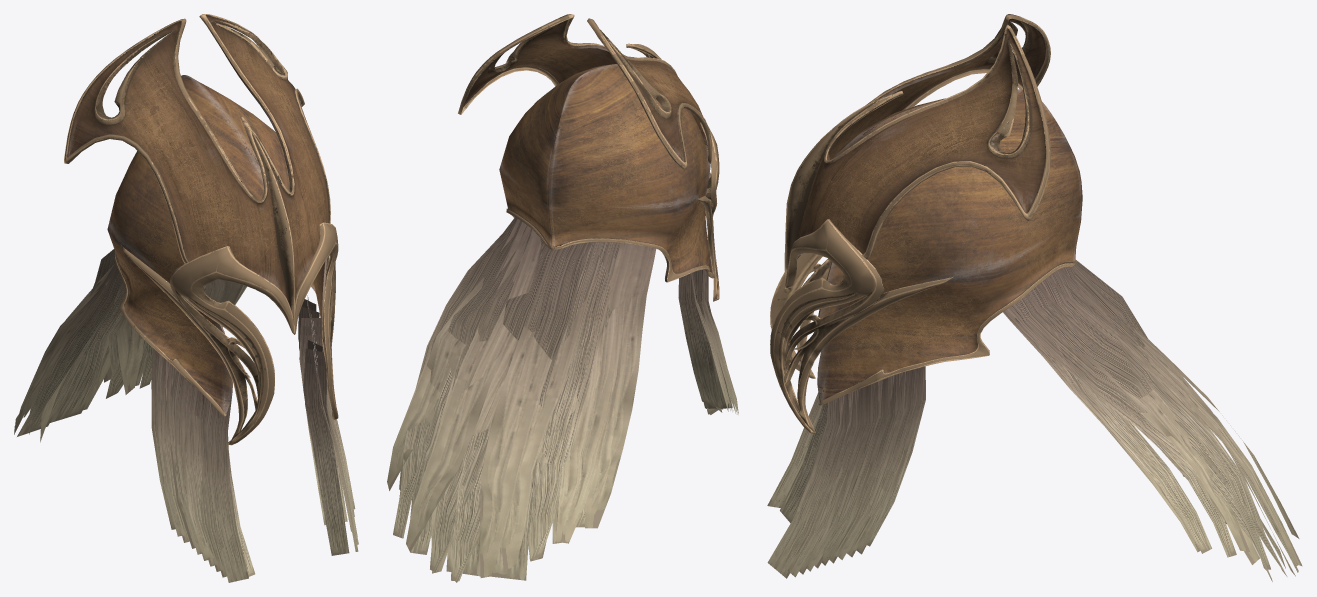
File: mkwd_inf3_t3_helmet_bronze_hc.fbx
3 renders of one model, left to right at view 1: azimuth 30°, elevation 25°; view 2: azimuth 150°, elevation 25°; view 3: azimuth 270°, elevation 25°, orthographic. The views are drawn at different scales.
Parts seen in each view (by area): view 1: mkwd_inf3_t3_helmet_bronze_hc.lod0.0, mkwd_inf3_t3_helmet_bronze_hc.lod0.1; view 2: mkwd_inf3_t3_helmet_bronze_hc.lod0.1, mkwd_inf3_t3_helmet_bronze_hc.lod0.0; view 3: mkwd_inf3_t3_helmet_bronze_hc.lod0.0, mkwd_inf3_t3_helmet_bronze_hc.lod0.1.
Part boxes in pixels (x1,y1,x2,y2): mkwd_inf3_t3_helmet_bronze_hc.lod0.0: (64, 14, 338, 445); mkwd_inf3_t3_helmet_bronze_hc.lod0.1: (14, 249, 358, 582); mkwd_inf3_t3_helmet_bronze_hc.lod0.1: (387, 217, 738, 582); mkwd_inf3_t3_helmet_bronze_hc.lod0.0: (458, 14, 719, 301); mkwd_inf3_t3_helmet_bronze_hc.lod0.0: (770, 14, 1082, 433); mkwd_inf3_t3_helmet_bronze_hc.lod0.1: (767, 260, 1302, 581).
Bounding box in the file's own units: 0.2734 × 0.4828 × 0.5426.
Materials: 2 (2 with a texture image).
